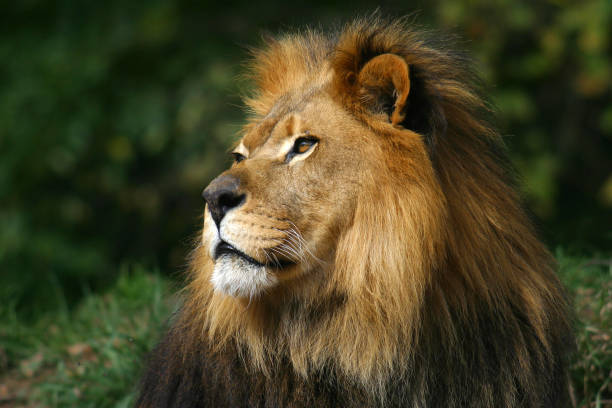lion: (157, 12, 547, 408)
